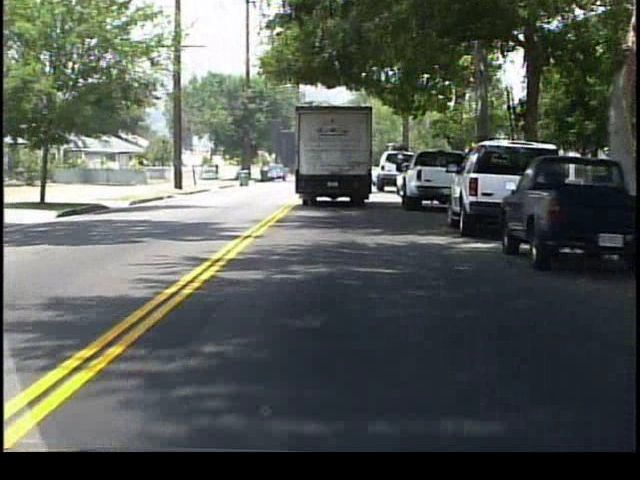person: (215, 163, 222, 182)
